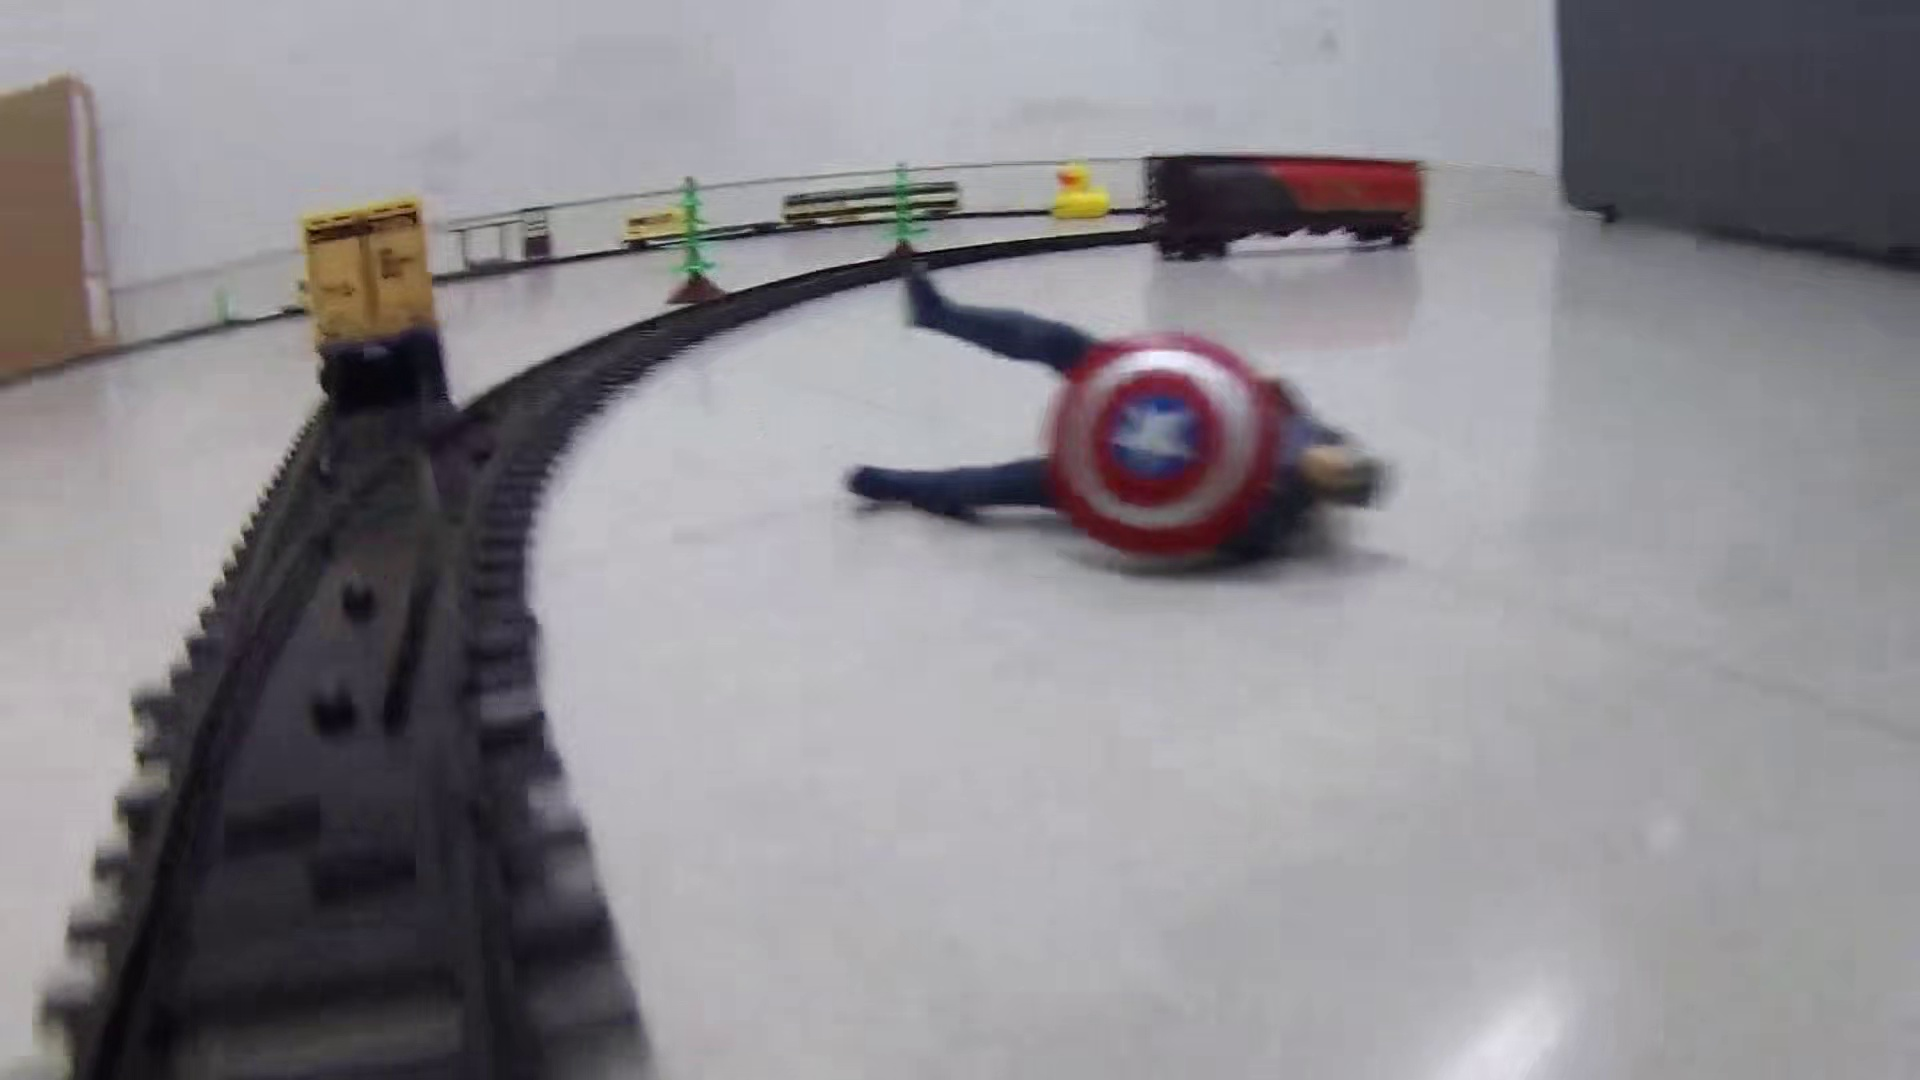people: (844, 262, 1390, 588)
tree: (664, 174, 738, 303), (878, 161, 935, 262)
